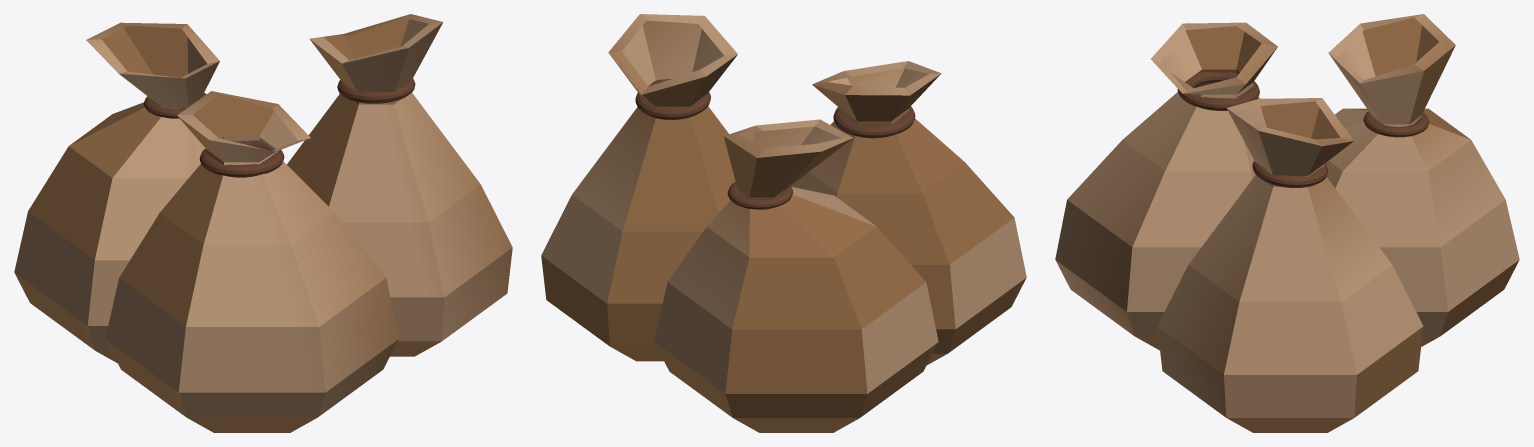
The model's file is lootbag.fbx.
3 views of the same model, side by side, from view 1: azimuth 30°, elevation 25°; view 2: azimuth 150°, elevation 25°; view 3: azimuth 270°, elevation 25° (orthographic). The views are drawn at different scales.
Visible parts, largest first — view 1: Cylinder.001, Cylinder, Cylinder.002, Torus.001, Torus; view 2: Cylinder.002, Cylinder, Cylinder.001, Torus.001, Torus, Torus.002; view 3: Cylinder, Cylinder.002, Cylinder.001, Torus.001, Torus, Torus.002.
Part boxes in pixels (x1,y1,x2,y2): Cylinder.001: [105, 91, 398, 432]; Cylinder: [287, 14, 512, 356]; Cylinder.002: [14, 22, 219, 362]; Torus.001: [199, 140, 284, 177]; Torus: [337, 78, 415, 103]; Cylinder.002: [654, 119, 938, 432]; Cylinder: [541, 14, 737, 361]; Cylinder.001: [791, 61, 1026, 364]; Torus.001: [833, 106, 915, 138]; Torus: [635, 79, 710, 119]; Torus.002: [727, 182, 792, 209]; Cylinder: [1157, 98, 1423, 432]; Cylinder.002: [1325, 14, 1519, 346]; Cylinder.001: [1055, 22, 1277, 350]; Torus.001: [1177, 71, 1259, 110]; Torus: [1252, 161, 1328, 187]; Torus.002: [1363, 111, 1429, 137].
Bounding box in the file's own units: 269 × 205 × 289.
